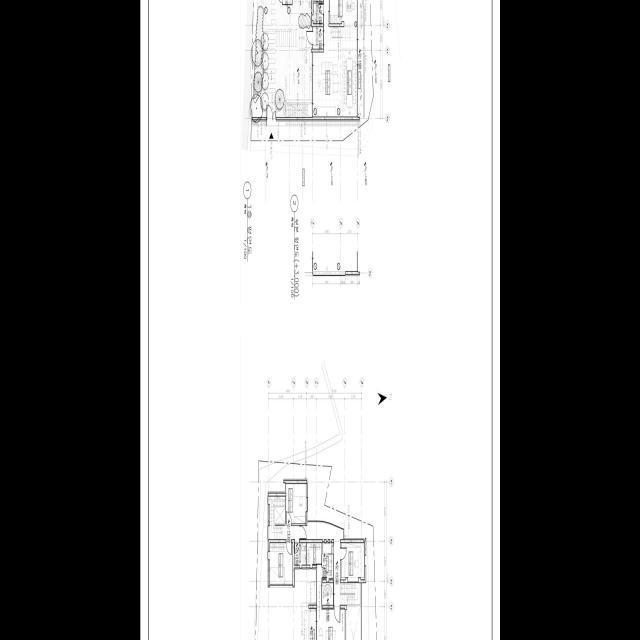background: (140, 0, 500, 640)
space_balconi: (308, 609, 316, 640)
space_bedroom: (317, 565, 344, 640), (269, 543, 292, 584)
space_dressroom: (307, 543, 321, 565)
space_front: (313, 27, 323, 49), (282, 0, 292, 4)
space_kitchen: (329, 0, 356, 117)
space_living_room: (300, 522, 343, 605), (313, 0, 340, 117)
space_other: (341, 543, 364, 581), (285, 484, 305, 524), (322, 583, 333, 605), (286, 526, 299, 539)
space_staircase: (269, 497, 286, 539), (340, 583, 360, 605), (332, 27, 350, 38)
space_toilet: (322, 543, 333, 578), (294, 543, 306, 565), (313, 4, 323, 23)
